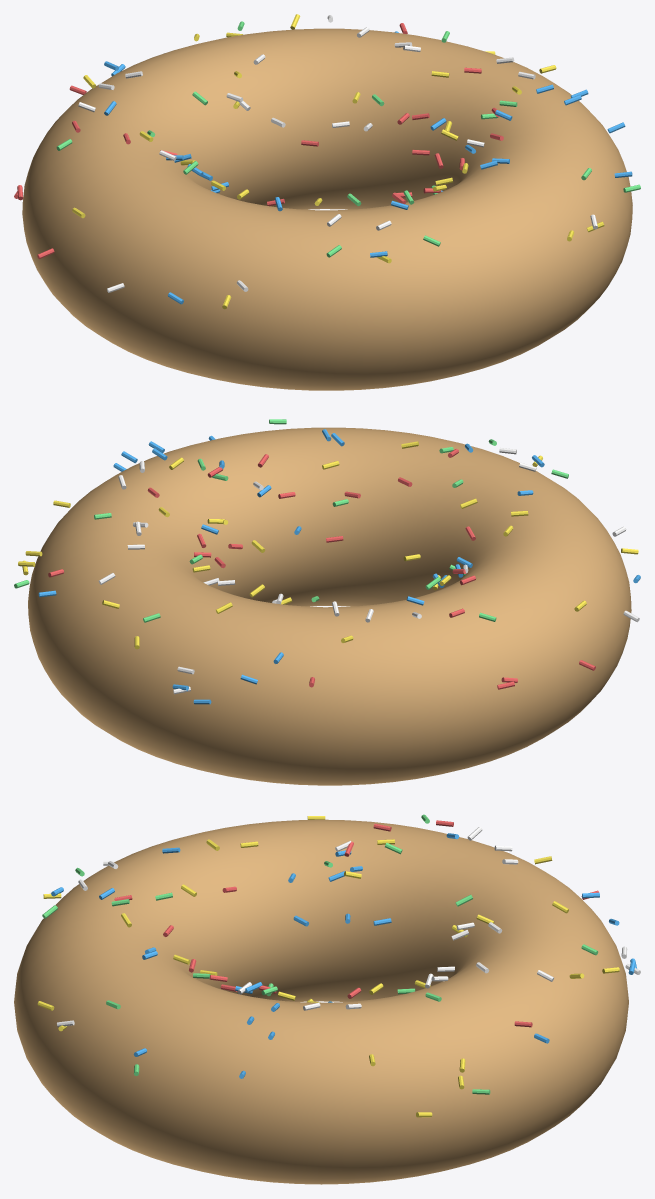
File: Donut.glb
The picture shows the model from 3 angles, top to bottom: view 1: azimuth 30°, elevation 25°; view 2: azimuth 150°, elevation 25°; view 3: azimuth 270°, elevation 25°; orthographic projection.
Parts seen in each view (by area): view 1: Dough; view 2: Dough; view 3: Dough.
Boxes of the visible parts, x1,y1,x2,y2 form: Dough: (22, 28, 632, 390); Dough: (28, 427, 631, 785); Dough: (14, 819, 628, 1184).
Size of the model in its own units: 2.92 by 0.9087 by 2.89.
